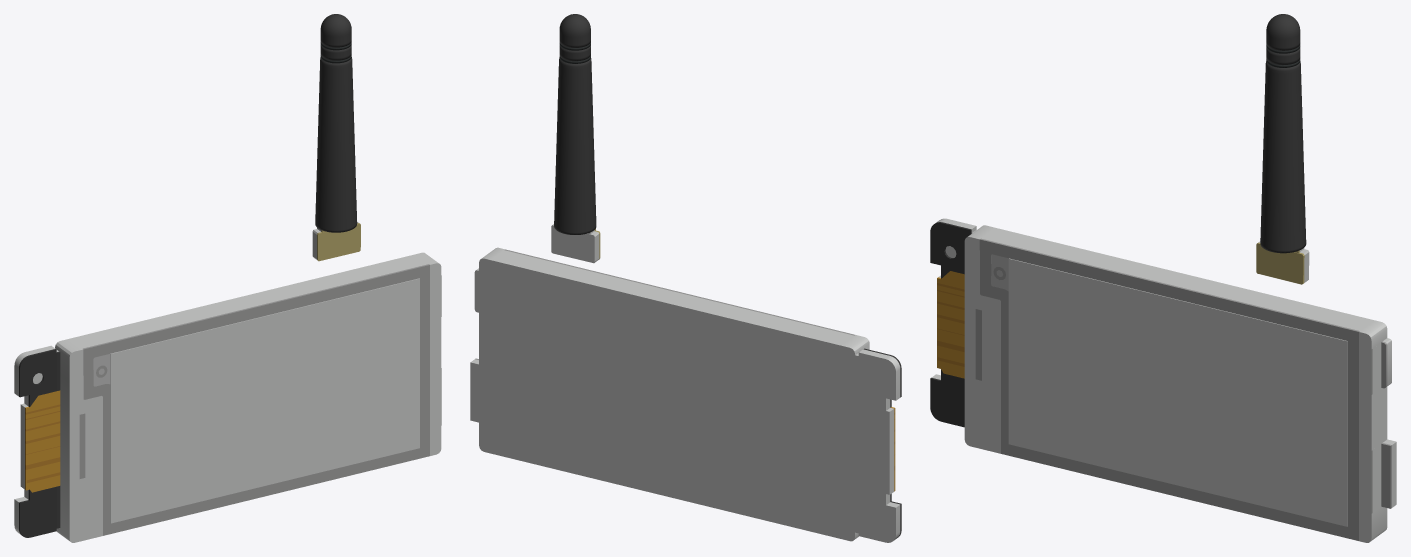
File: tlora-t3s3-epaper.glb
The picture shows the model from 3 angles, left to right: view 1: azimuth 30°, elevation 25°; view 2: azimuth 150°, elevation 25°; view 3: azimuth 330°, elevation 25°; orthographic projection. The views are drawn at different scales.
Visible parts, largest first — view 1: Screen, Face_9f9f9e, Face_cbcccb, Antenna_0, Display, Body, Face_353535, Face_c08c2d, Face_b1a368, Antenna_4, Face_af7a2b; view 2: Body, Antenna_0, Display, Antenna_4, Face_9f9f9e; view 3: Screen, Face_9f9f9e, Face_cbcccb, Antenna_0, Display, Body, Face_353535, Face_c08c2d, Face_b1a368, Antenna_4, Face_af7a2b.
Part boxes in pixels (bbox=[...]): Screen: bbox=[110, 278, 419, 523]; Face_9f9f9e: bbox=[79, 264, 441, 535]; Face_cbcccb: bbox=[68, 262, 441, 542]; Antenna_0: bbox=[315, 57, 357, 232]; Display: bbox=[59, 256, 437, 540]; Body: bbox=[14, 221, 428, 534]; Face_353535: bbox=[19, 349, 56, 537]; Face_c08c2d: bbox=[25, 390, 60, 492]; Face_b1a368: bbox=[317, 223, 360, 261]; Antenna_4: bbox=[320, 14, 351, 47]; Face_af7a2b: bbox=[25, 404, 60, 482]; Body: bbox=[470, 224, 900, 542]; Antenna_0: bbox=[554, 57, 596, 234]; Display: bbox=[486, 248, 868, 351]; Antenna_4: bbox=[559, 14, 590, 47]; Face_9f9f9e: bbox=[475, 249, 854, 359]; Screen: bbox=[1008, 258, 1347, 526]; Face_9f9f9e: bbox=[975, 238, 1391, 540]; Face_cbcccb: bbox=[964, 236, 1372, 542]; Antenna_0: bbox=[1260, 61, 1306, 253]; Display: bbox=[969, 229, 1382, 540]; Body: bbox=[932, 218, 1396, 532]; Face_353535: bbox=[930, 222, 971, 427]; Face_c08c2d: bbox=[937, 271, 964, 378]; Face_b1a368: bbox=[1256, 242, 1304, 284]; Antenna_4: bbox=[1266, 14, 1300, 50]; Face_af7a2b: bbox=[937, 283, 964, 366].
Bounding box in the file's own units: 0.067 × 0.0687 × 0.0064.
